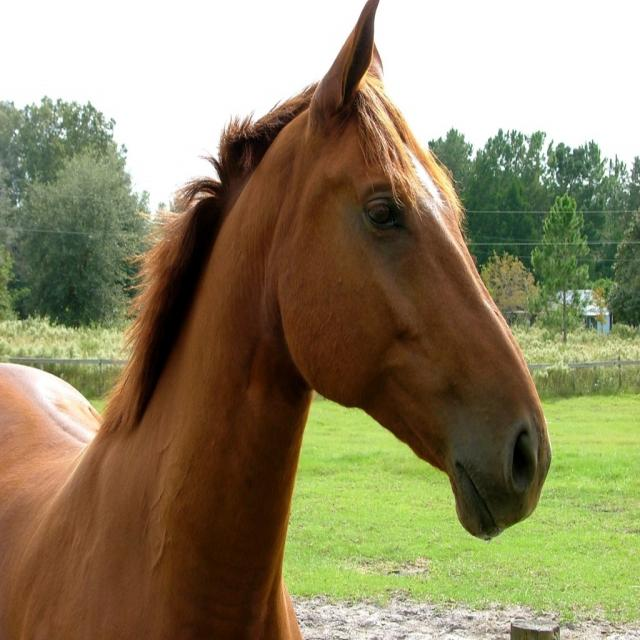Horse: (0, 0, 551, 639)
